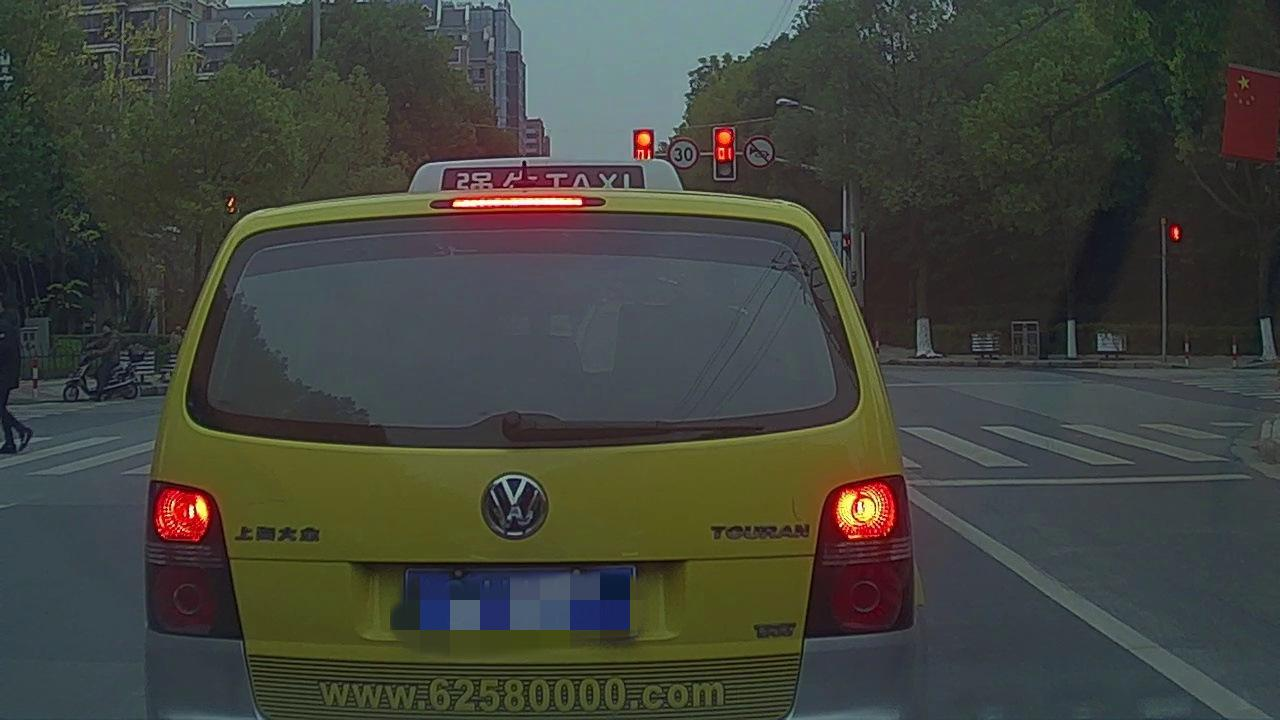traffic_light: (716, 131, 734, 180), (636, 131, 652, 161)
